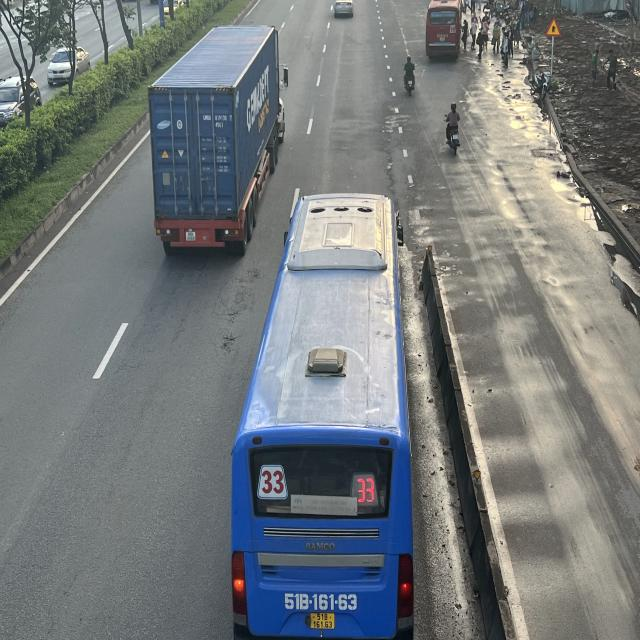coach: (232, 198, 411, 640), (426, 1, 464, 60)
container: (145, 24, 283, 255)
